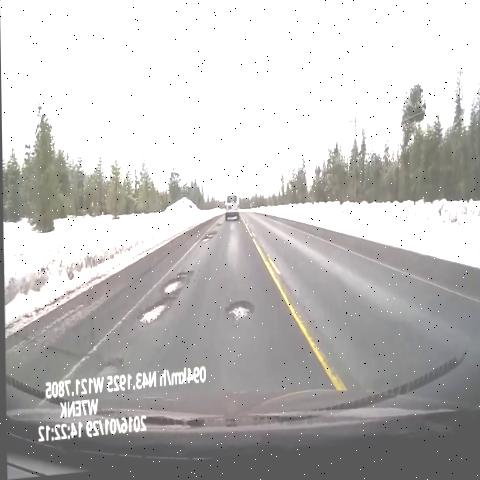pothole: (134, 266, 198, 339), (220, 294, 257, 340), (197, 232, 219, 254), (211, 216, 224, 236)
